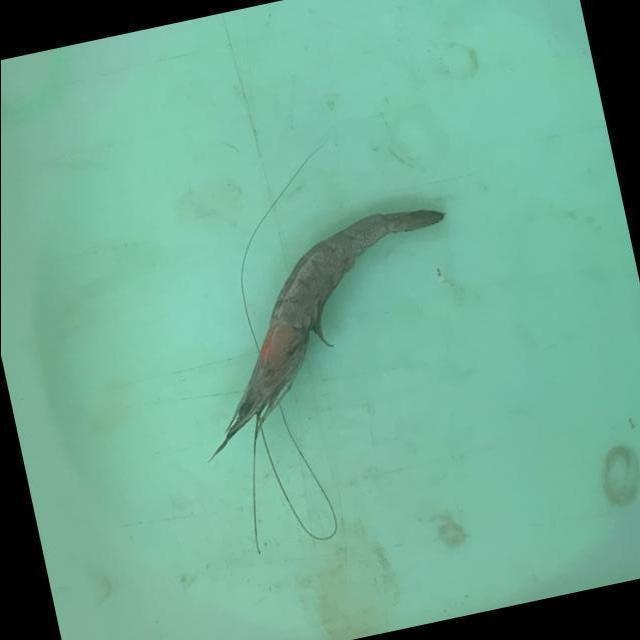shrimp: (214, 210, 444, 457)
